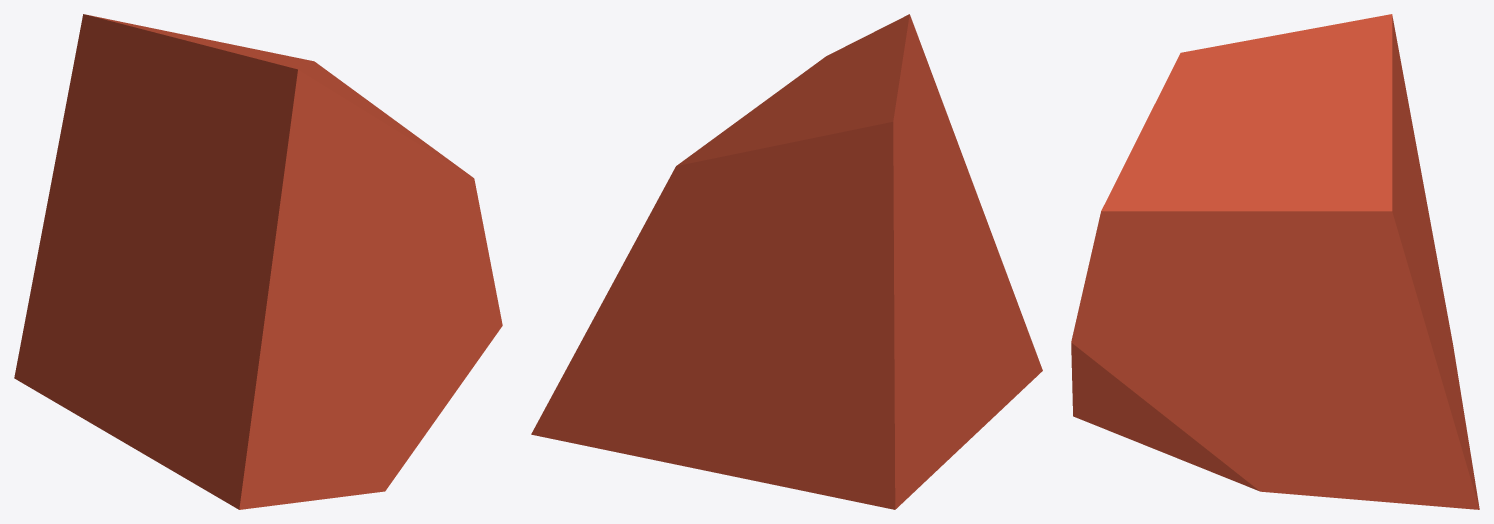
Rendered from Stones_6.fbx.
3 renders of one model, left to right at view 1: azimuth 30°, elevation 25°; view 2: azimuth 150°, elevation 25°; view 3: azimuth 270°, elevation 25°, orthographic. The views are drawn at different scales.
Parts seen in each view (by area): view 1: Stones_6; view 2: Stones_6; view 3: Stones_6.
Boxes of the visible parts, box(x1,y1,x2,y2) form: Stones_6: box(14, 14, 502, 509); Stones_6: box(531, 14, 1042, 509); Stones_6: box(1071, 14, 1479, 509).
Size of the model in its own units: 9.36 by 9.25 by 9.76.
Materials: 1 (1 with a texture image).
